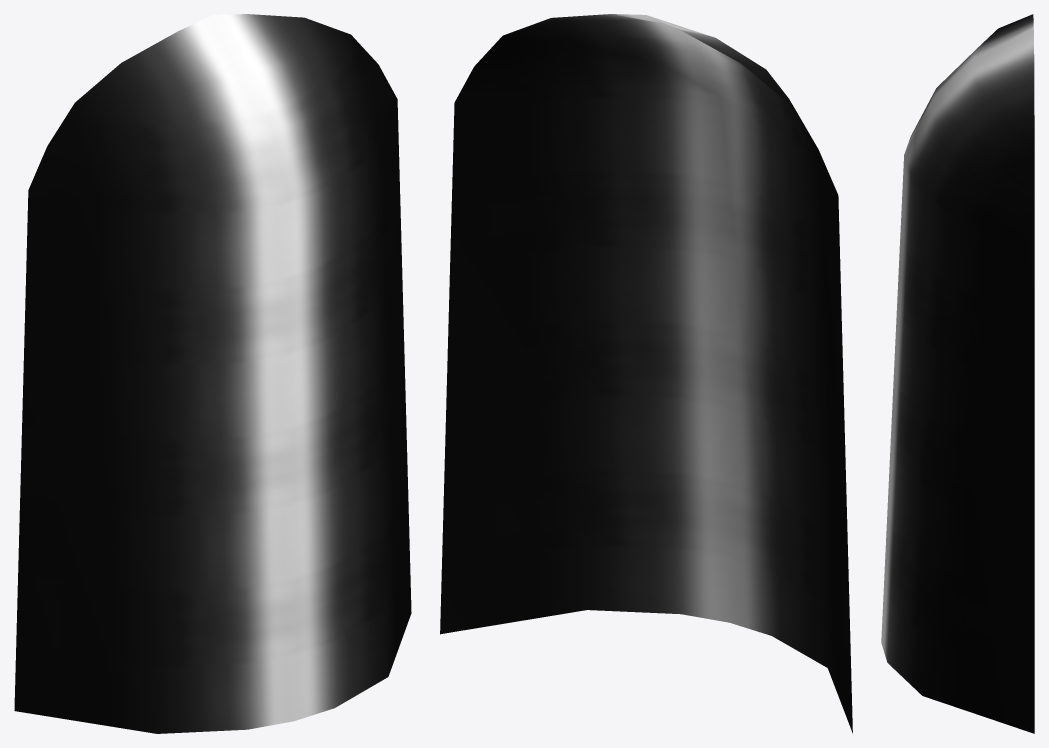
File: zhihuizhongxinglow.FBX
3 renders of one model, left to right at view 1: azimuth 30°, elevation 25°; view 2: azimuth 150°, elevation 25°; view 3: azimuth 270°, elevation 25°, orthographic. The views are drawn at different scales.
Parts seen in each view (by area): view 1: Box_001; view 2: Box_001; view 3: Box_001.
Part boxes in pixels (<box>): Box_001: <box>14,14,411,733</box>; Box_001: <box>440,14,852,733</box>; Box_001: <box>881,14,1034,733</box>.
Size of the model in its own units: 190 by 295 by 67.22.
